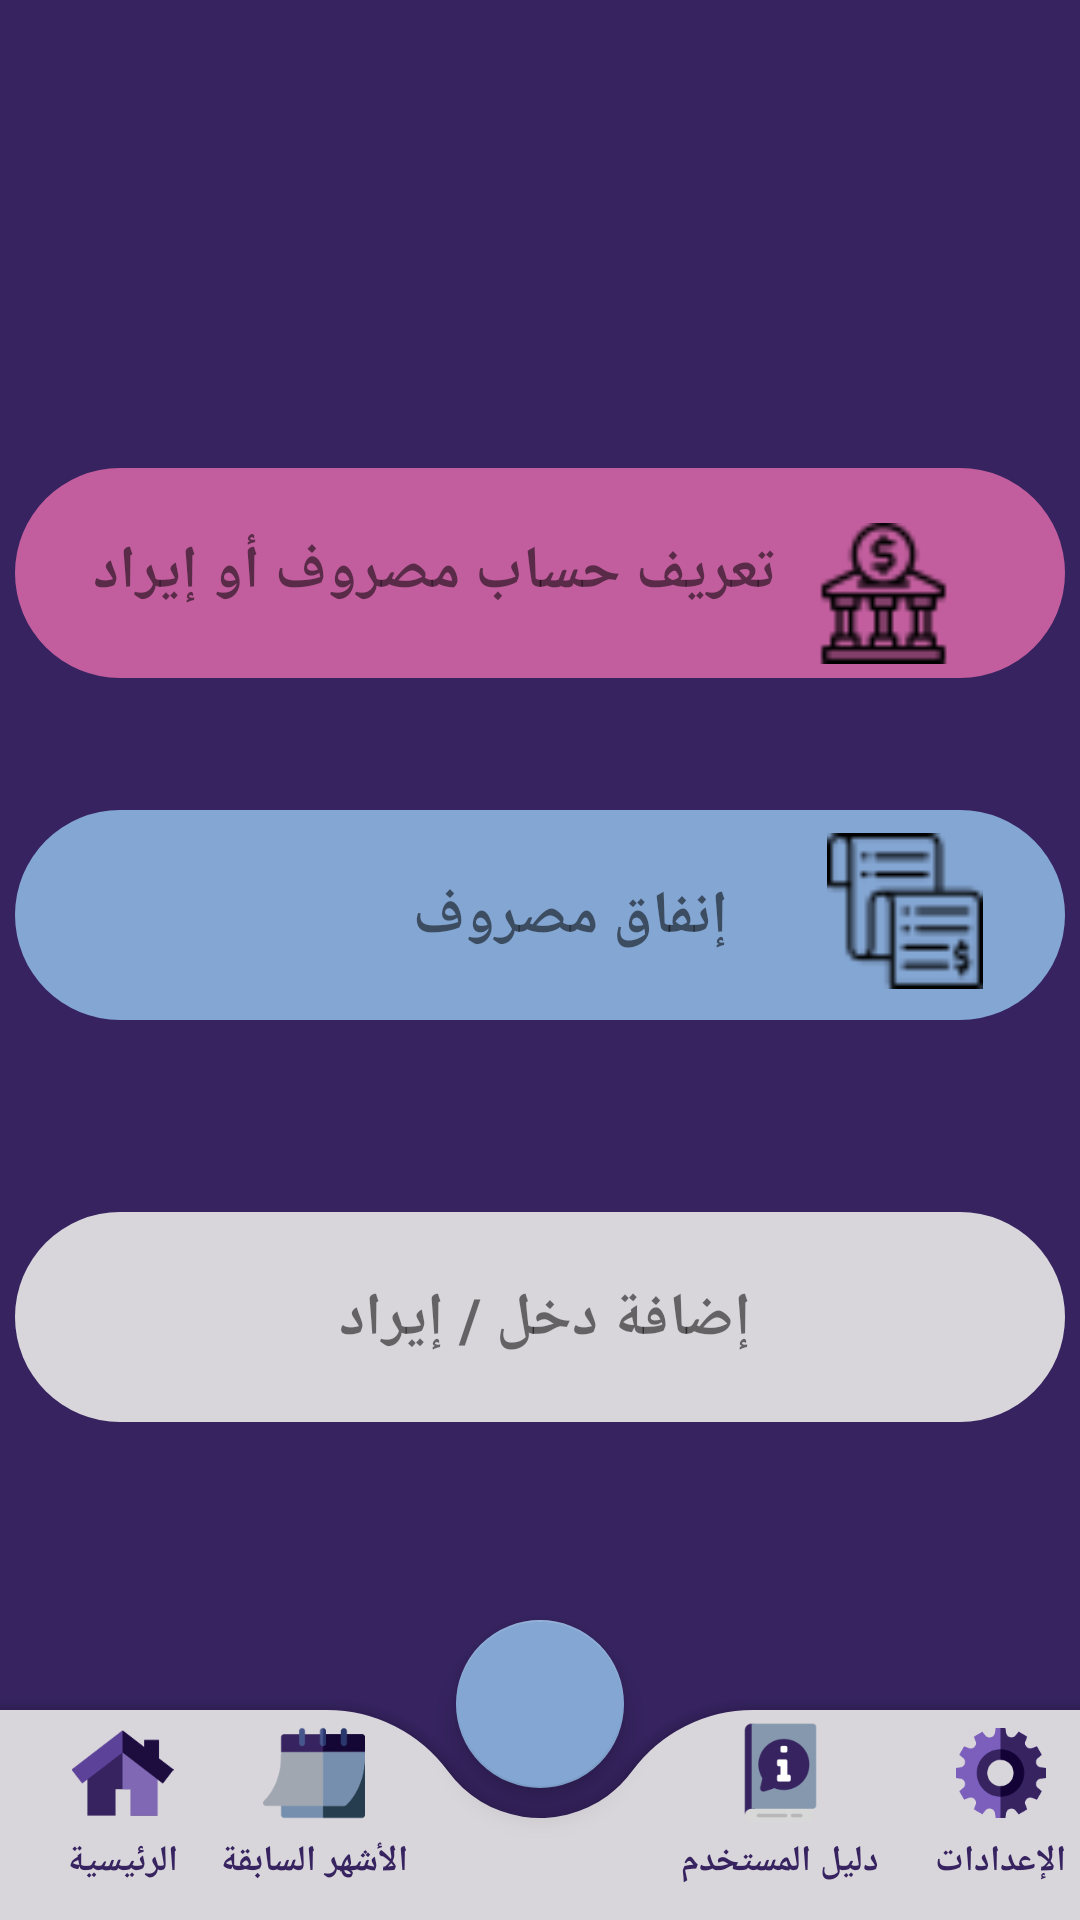

Locate icon controls on the screen. Image size 1080*1920, boxes as (x1=x1, y1=y1, x2=x2, y2=y2).
calendar masroofe: (x1=263, y1=1728, x2=365, y2=1819)
